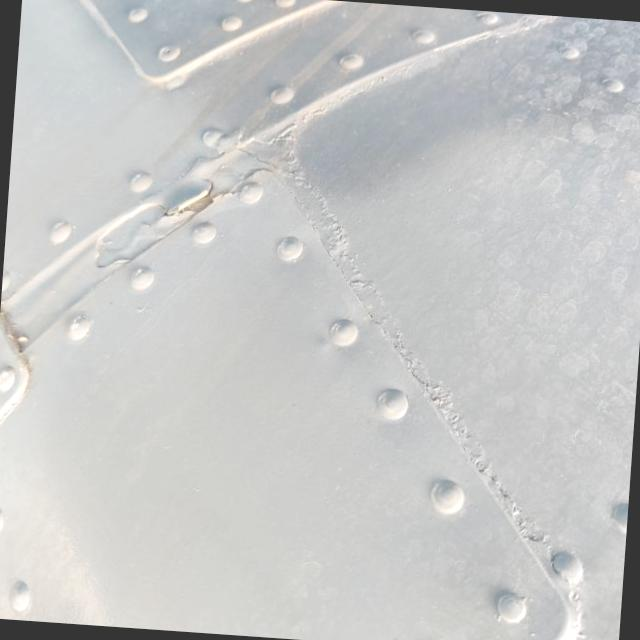crack: (148, 164, 247, 224)
